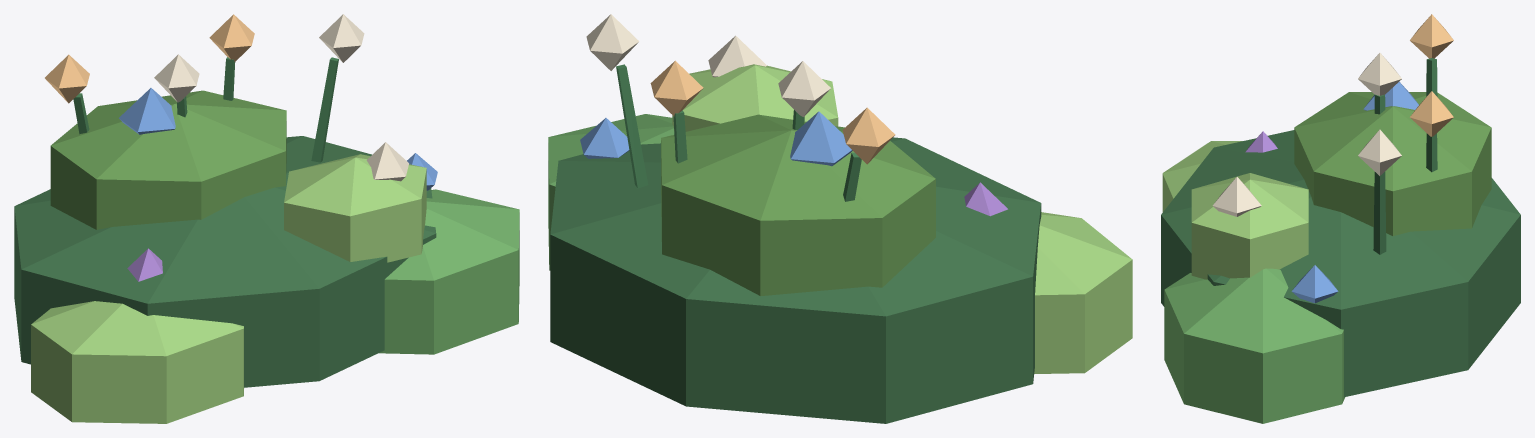
The model's file is deco_rain_moss.obj.
3 renders of one model, left to right at view 1: azimuth 30°, elevation 25°; view 2: azimuth 150°, elevation 25°; view 3: azimuth 270°, elevation 25°, orthographic. The views are drawn at different scales.
Visible parts, largest first — view 1: deco_rain_moss; view 2: deco_rain_moss; view 3: deco_rain_moss.
Part boxes in pixels (<box>): deco_rain_moss: <box>14,14,519,423</box>; deco_rain_moss: <box>548,14,1132,423</box>; deco_rain_moss: <box>1161,14,1520,423</box>.
Bounding box in the file's own units: 0.0403 × 0.024 × 0.0277.
Materials: 1 (1 with a texture image).
